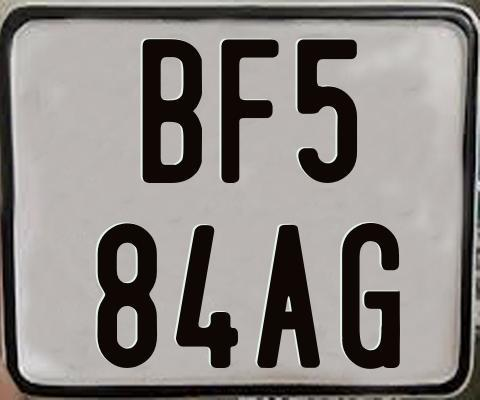4: (175, 223, 239, 371)
5: (297, 36, 357, 185)
8: (94, 223, 156, 372)
A: (257, 223, 325, 368)
B: (140, 36, 202, 184)
F: (221, 39, 282, 186)
G: (339, 221, 398, 369)
